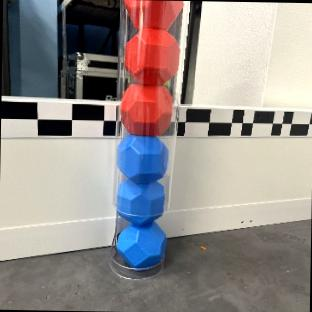Loader: (105, 0, 188, 279)
V5_BLUE: (113, 221, 166, 268), (116, 134, 167, 181), (116, 179, 163, 222)
V5_RED: (122, 22, 180, 88), (119, 81, 173, 136), (124, 0, 182, 30)
